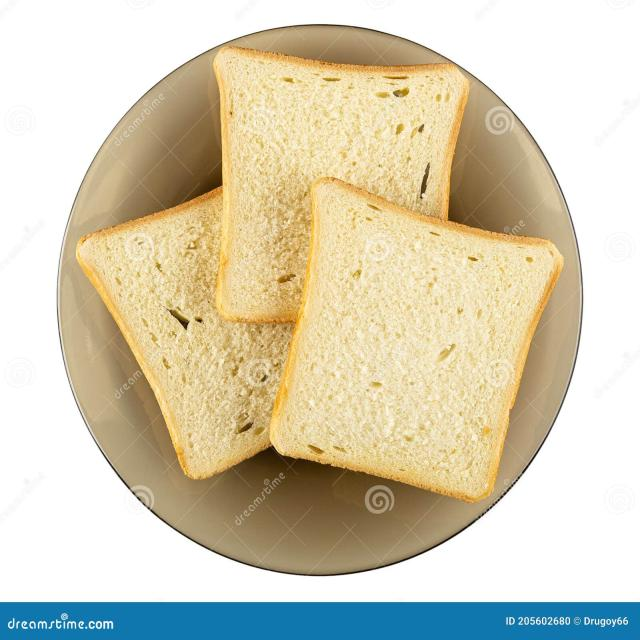Bread: (270, 178, 564, 502), (214, 46, 469, 322), (76, 188, 294, 479)
